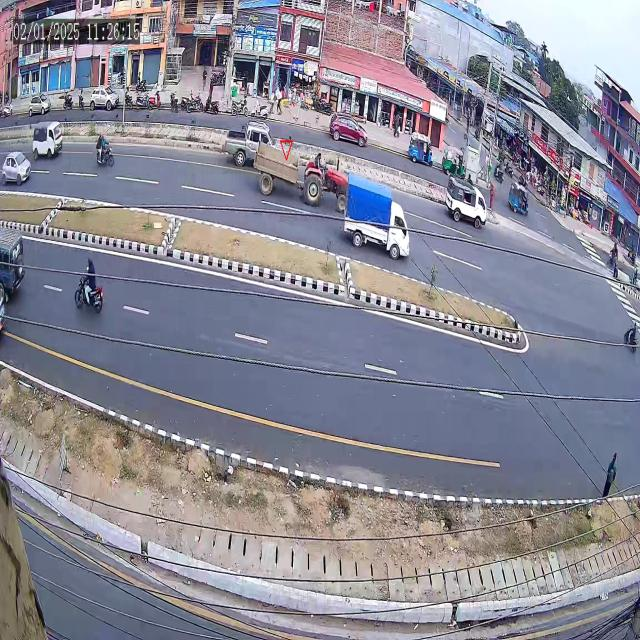auto: (504, 176, 534, 224)
car: (0, 147, 36, 187)
motorcycle: (63, 244, 111, 322), (617, 309, 640, 372), (90, 126, 120, 172)
van: (30, 120, 67, 164)
